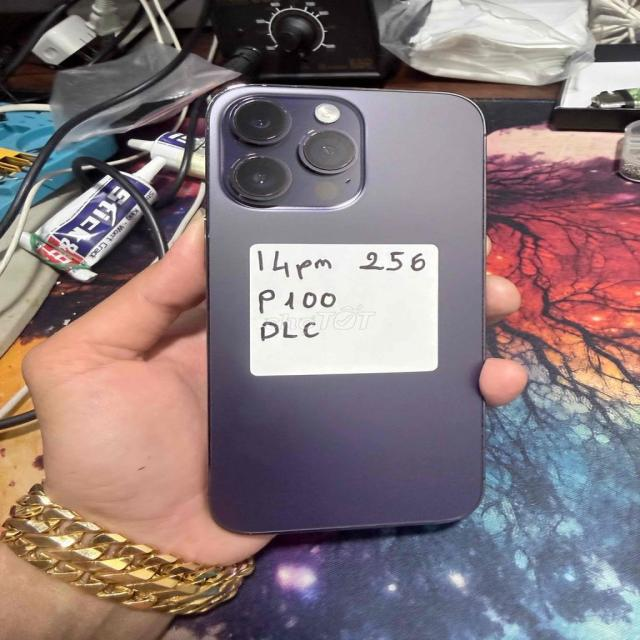gen_14: (186, 80, 497, 536)
